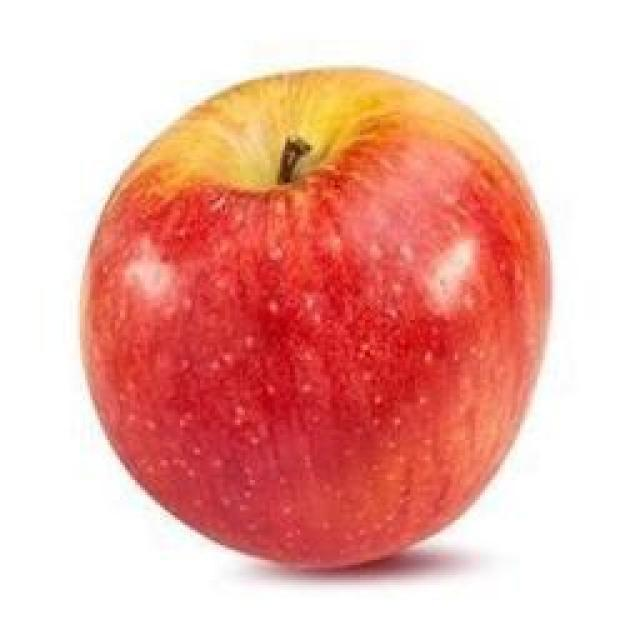Apple: (84, 69, 549, 567)
